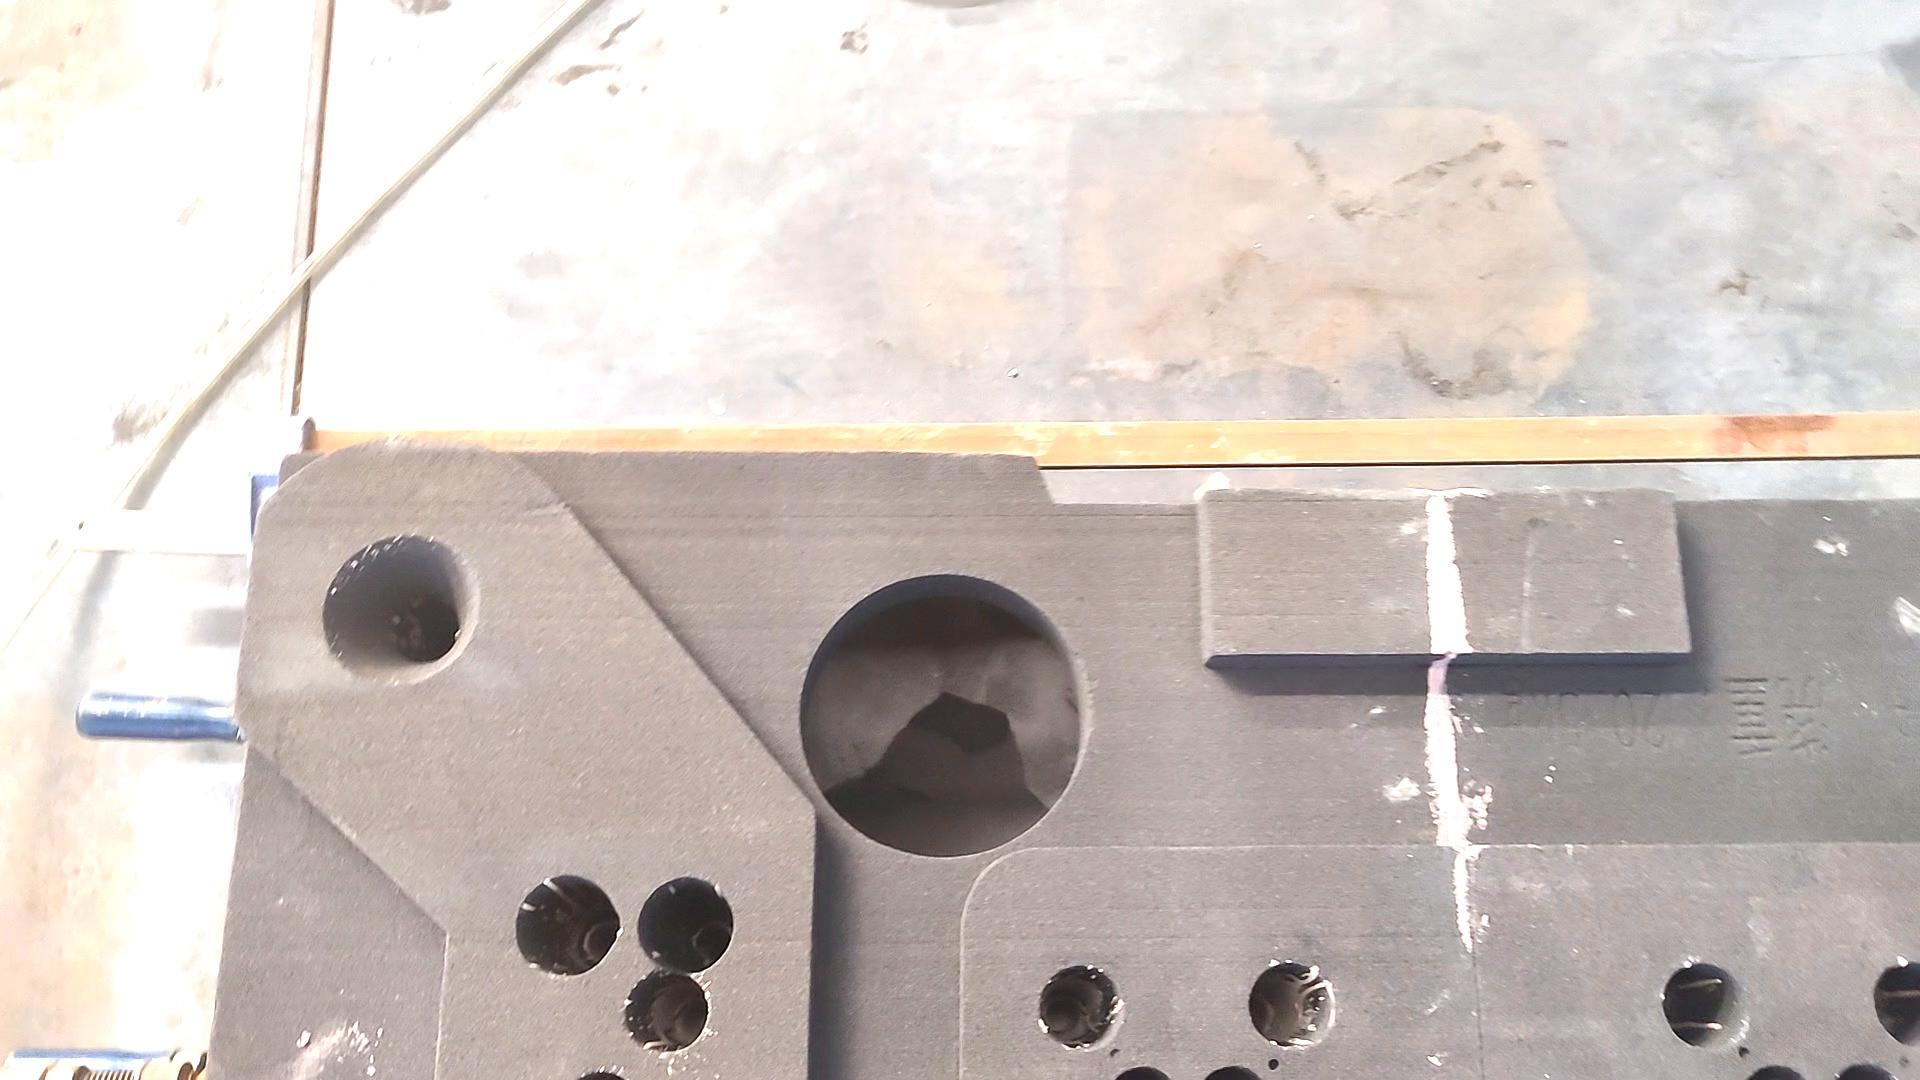pouring hole: (320, 533, 477, 683)
